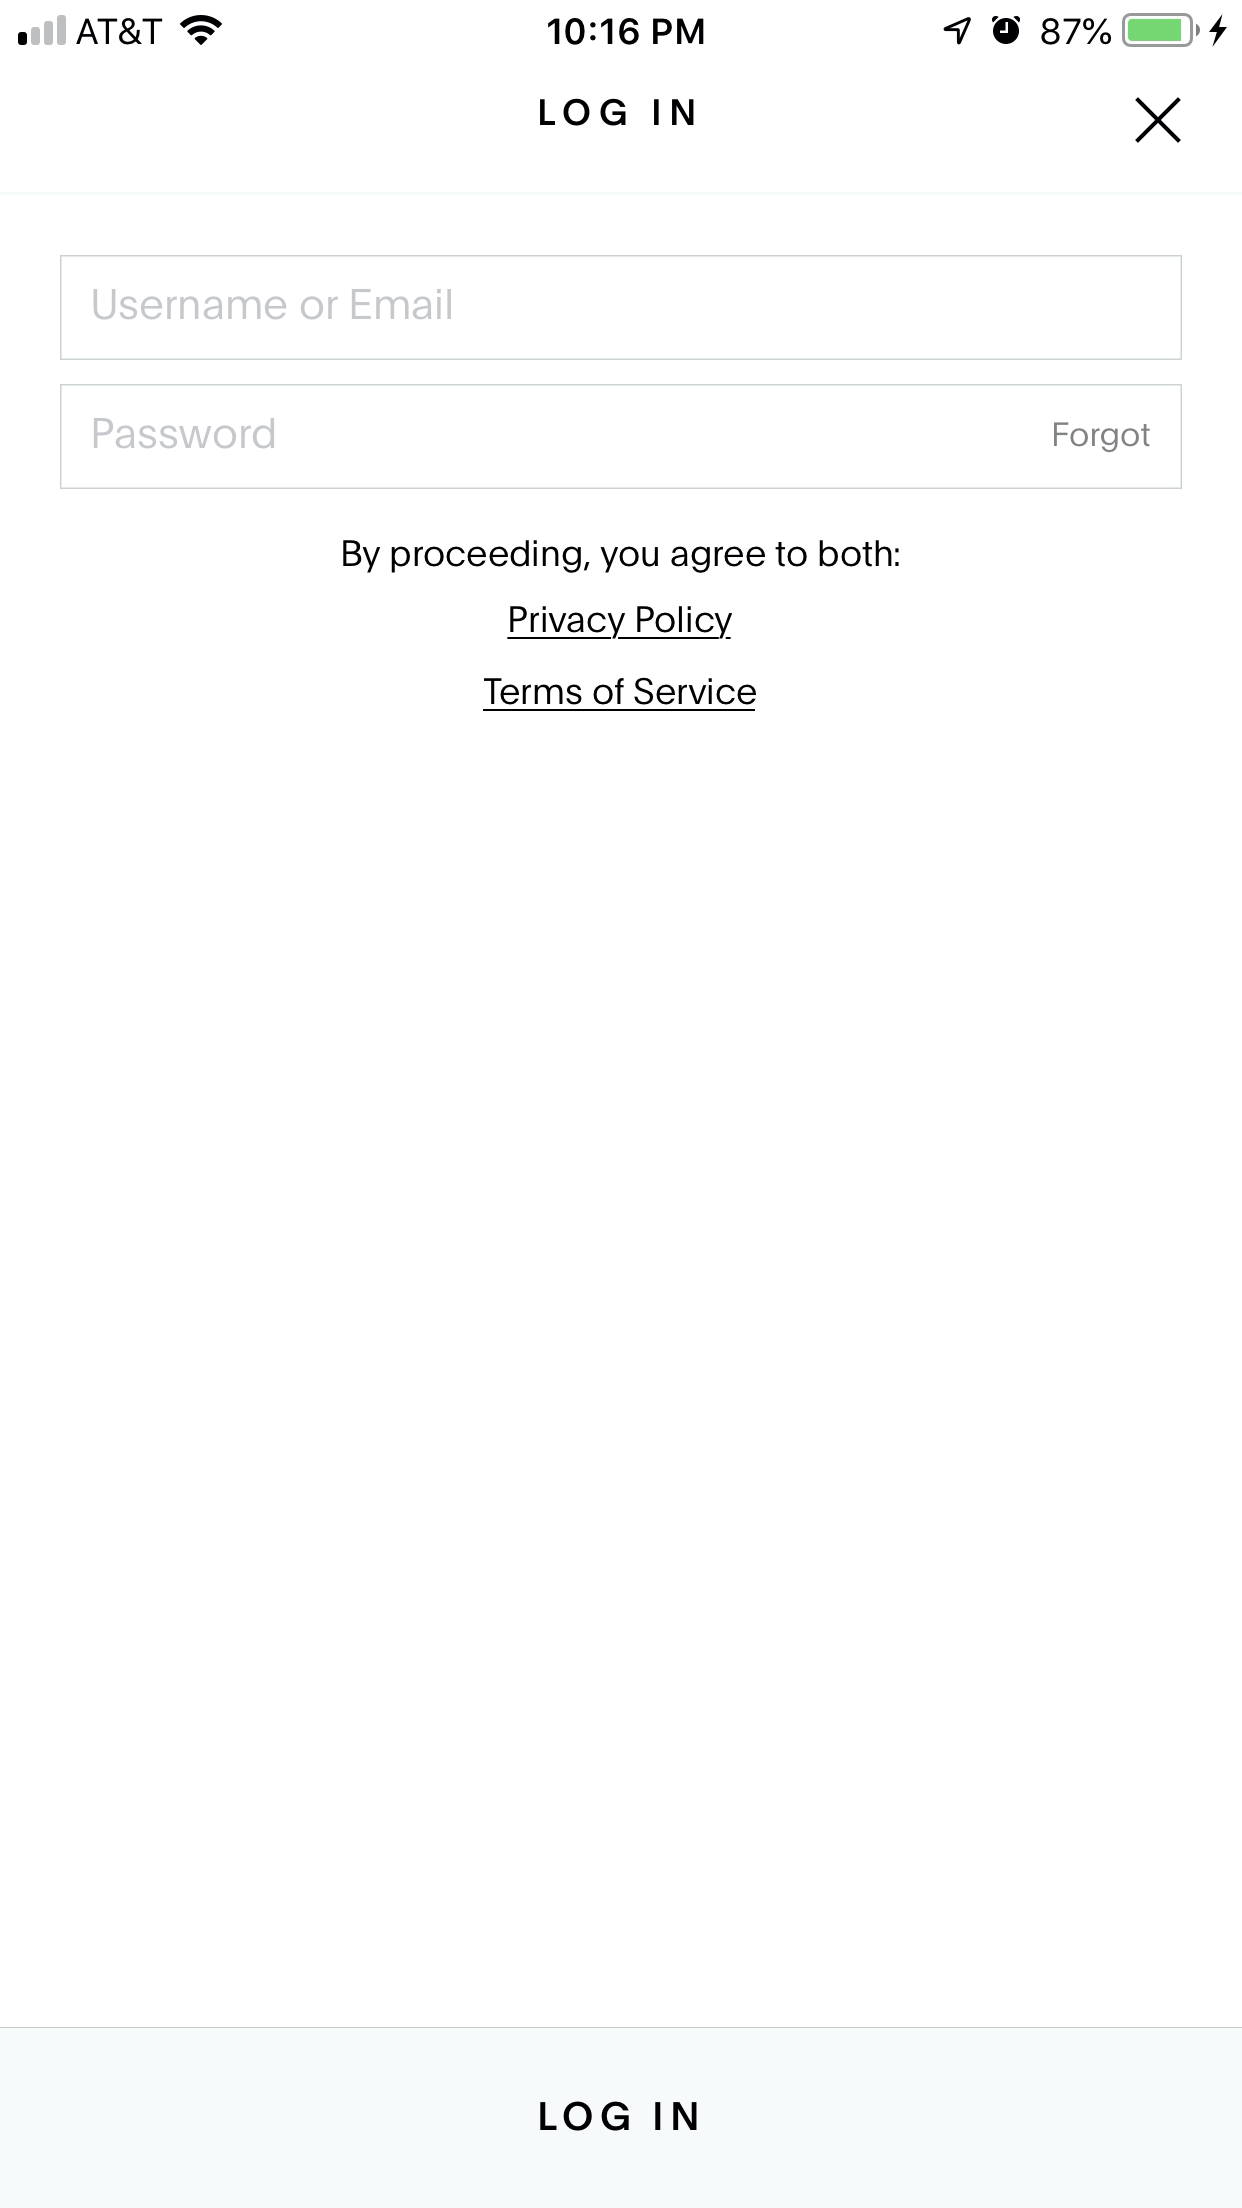EditText: (61, 255, 1183, 361), (61, 385, 1183, 490)
Icon: (1134, 97, 1181, 144)
Text: (343, 538, 899, 575), (94, 290, 452, 321), (482, 678, 757, 713), (507, 607, 732, 641), (94, 419, 274, 450), (540, 99, 695, 127), (1052, 422, 1151, 453)
TextButton: (2, 2028, 1242, 2208)
UpperTaskBar: (2, 2, 1242, 49)
